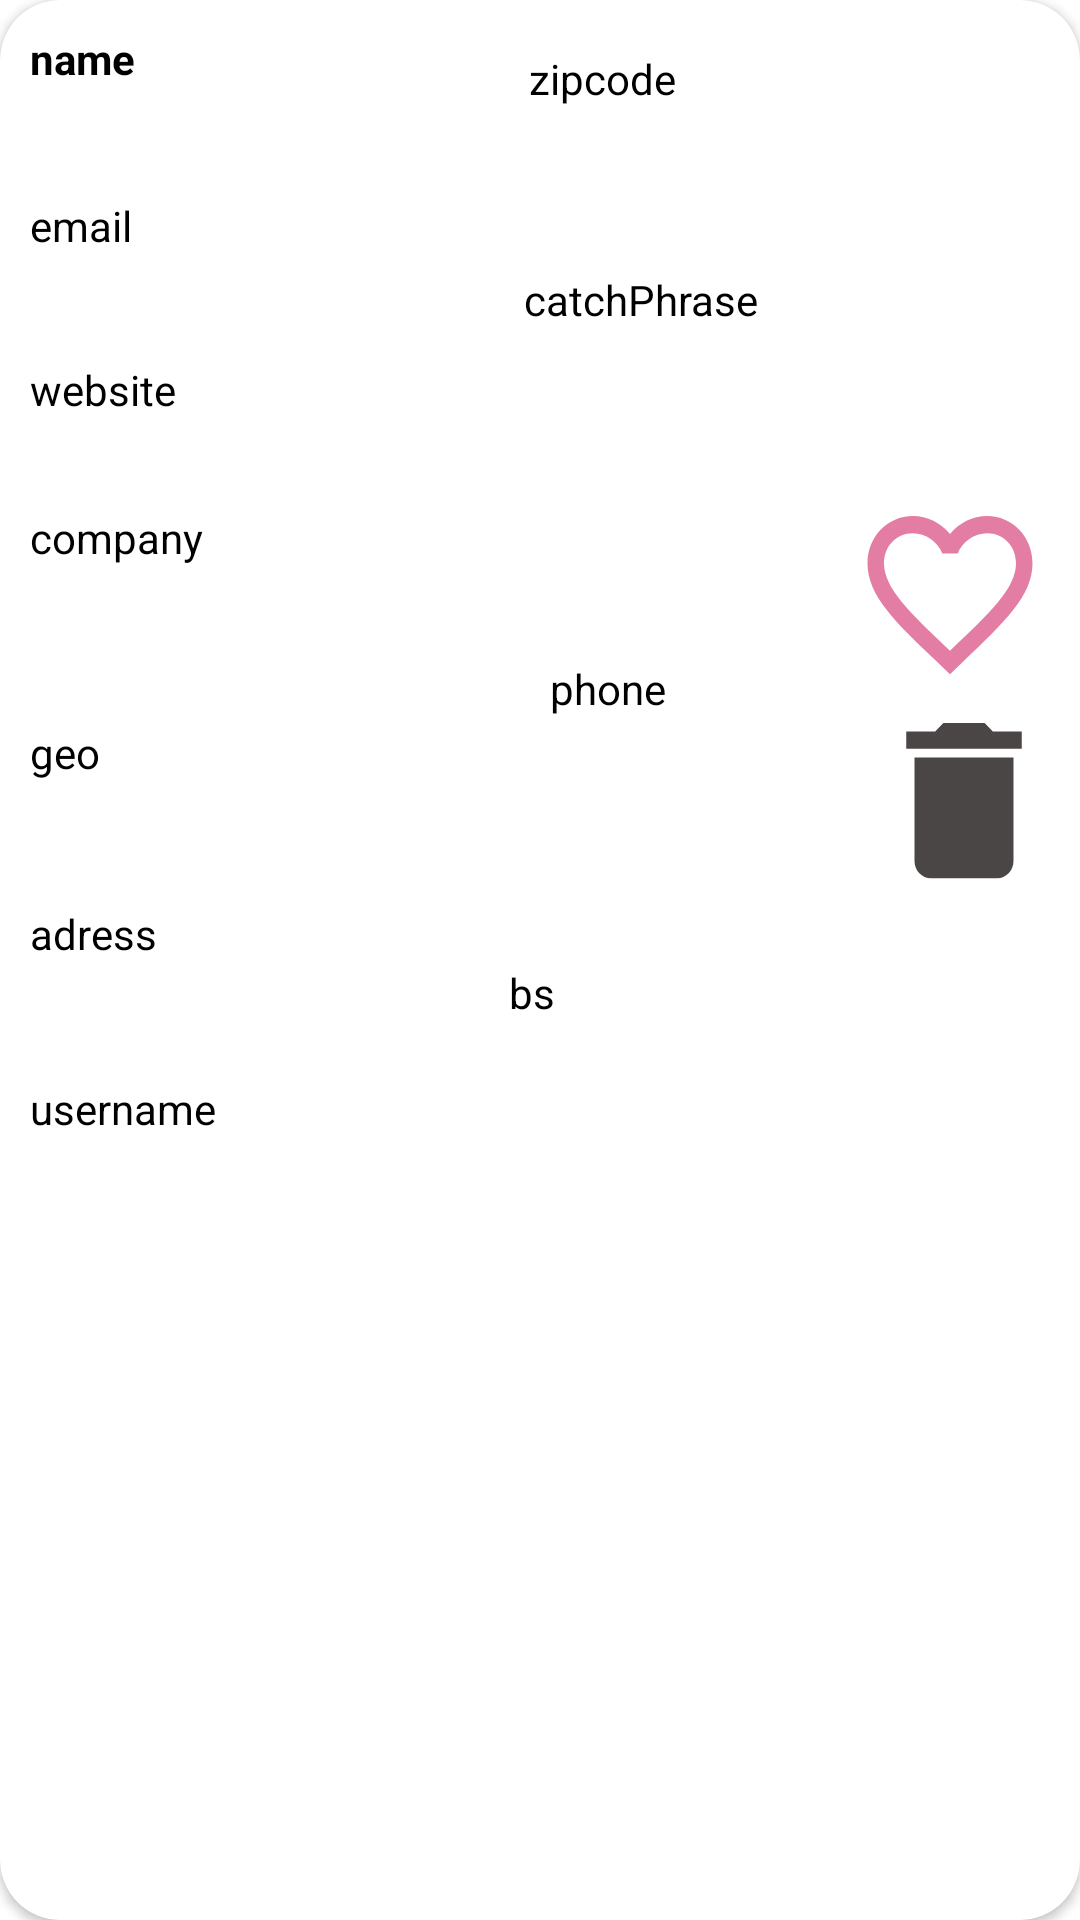

Locate icon controls on the screen. Image size 1080x1920, boxes as {"x1": x1, "y1": y1, "x2": x2, "y2": y2}.
delete: {"x1": 906, "y1": 723, "x2": 1022, "y2": 879}
favorite backhround: {"x1": 867, "y1": 516, "x2": 1033, "y2": 674}
